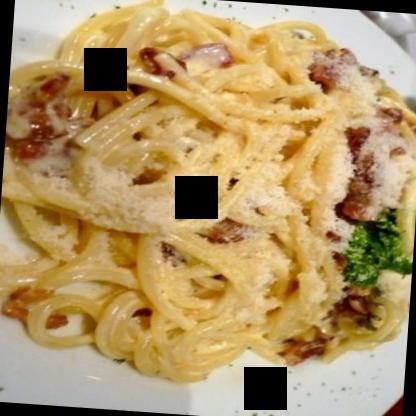pasta: (0, 0, 415, 375)
